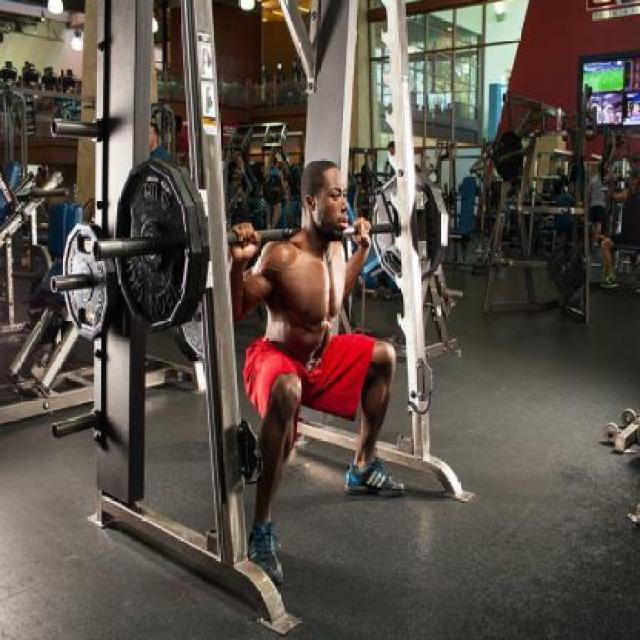barbell: (92, 154, 192, 334), (49, 214, 106, 343)
